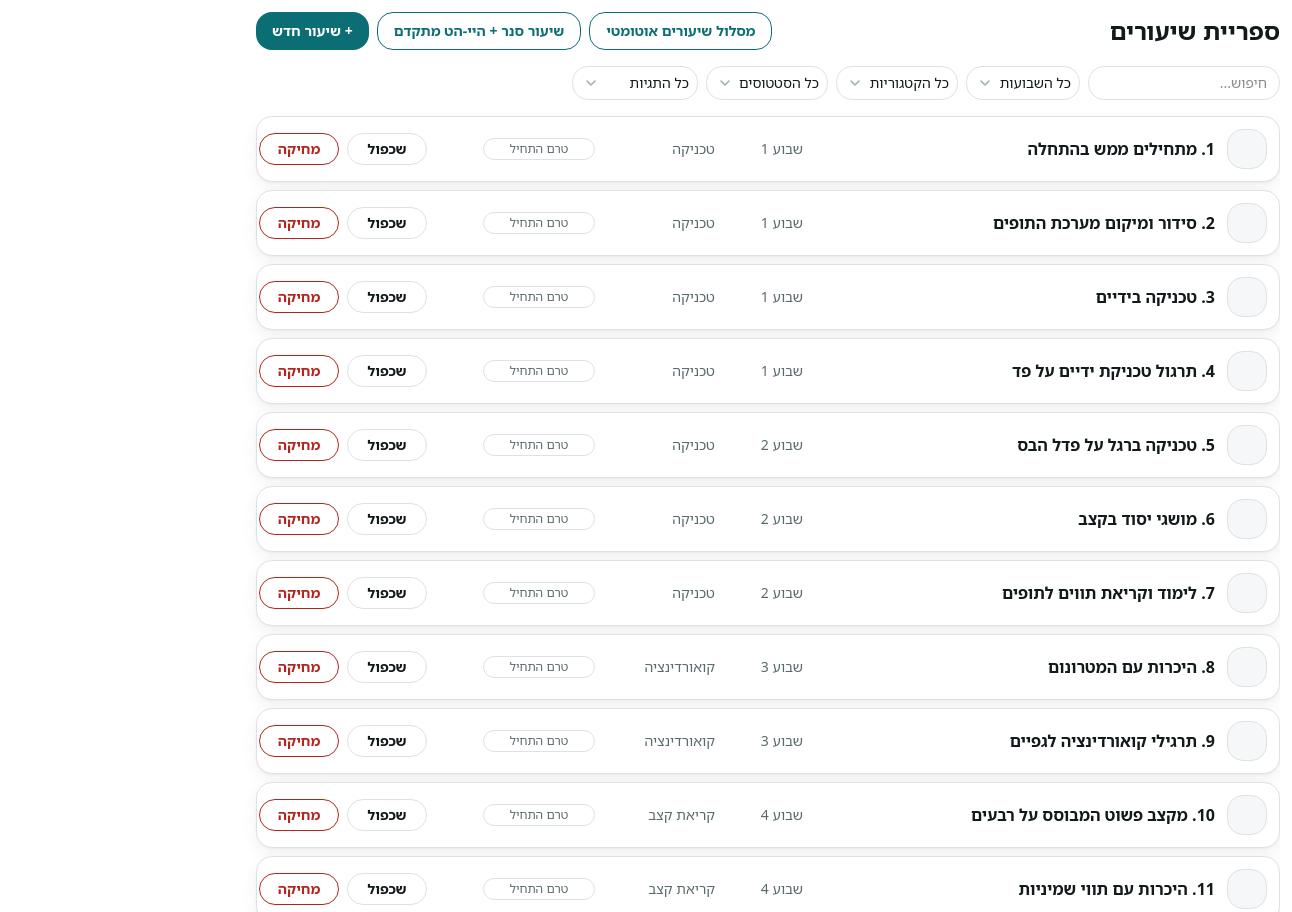
Scenario: LessonsListPage › lists seeded lessons and filters by category
Expected: the text "1. מתחילים ממש בהתחלה" is shown, [1028, 137, 1215, 161]
Select "קואורדינציה" in the dropdown named "סינון לפי קטגוריה": (897, 83) [836, 66, 958, 100]
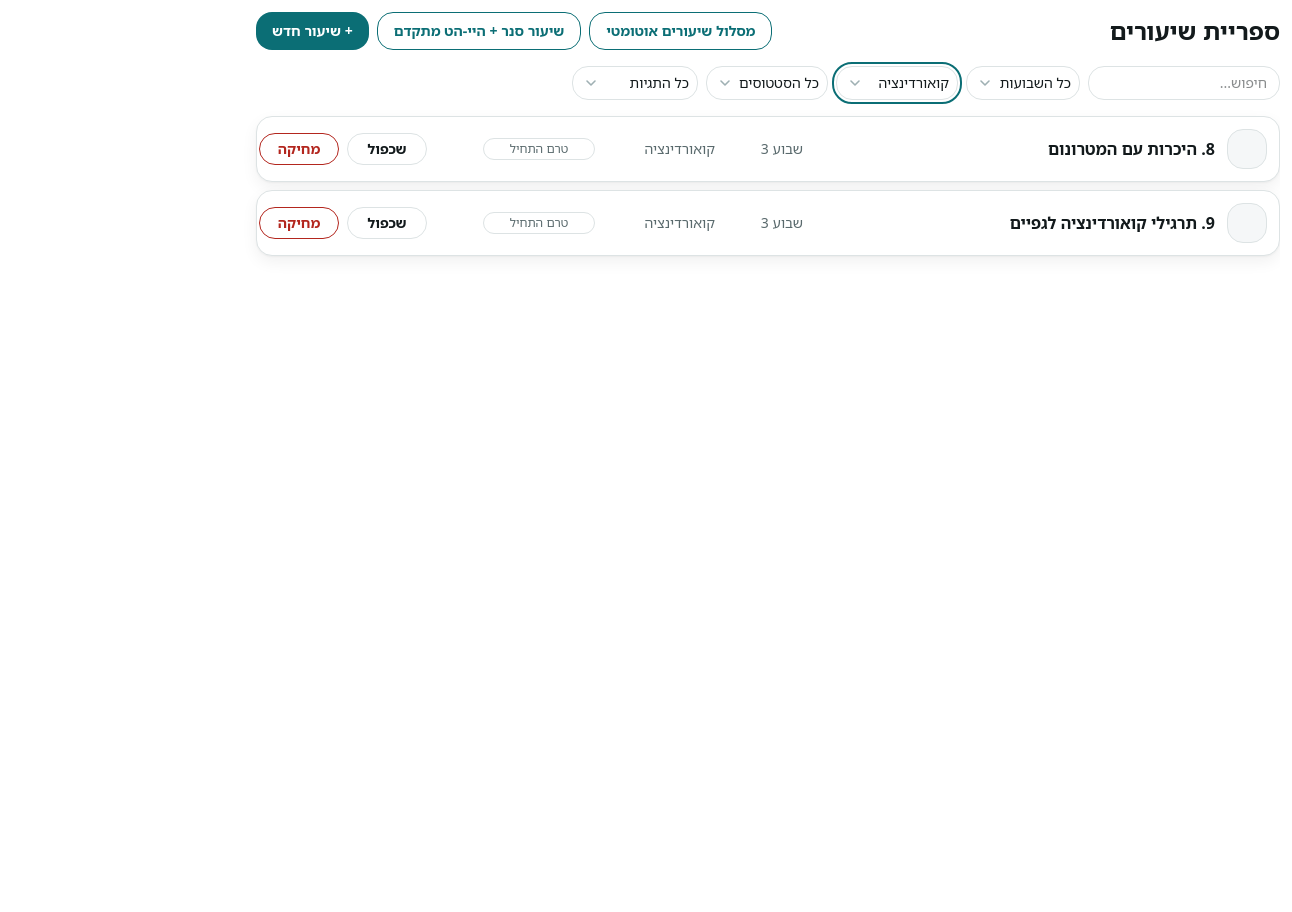
Now the number of buttons "שכפול" is 2, box [347, 133, 427, 165]; [347, 207, 427, 239]
